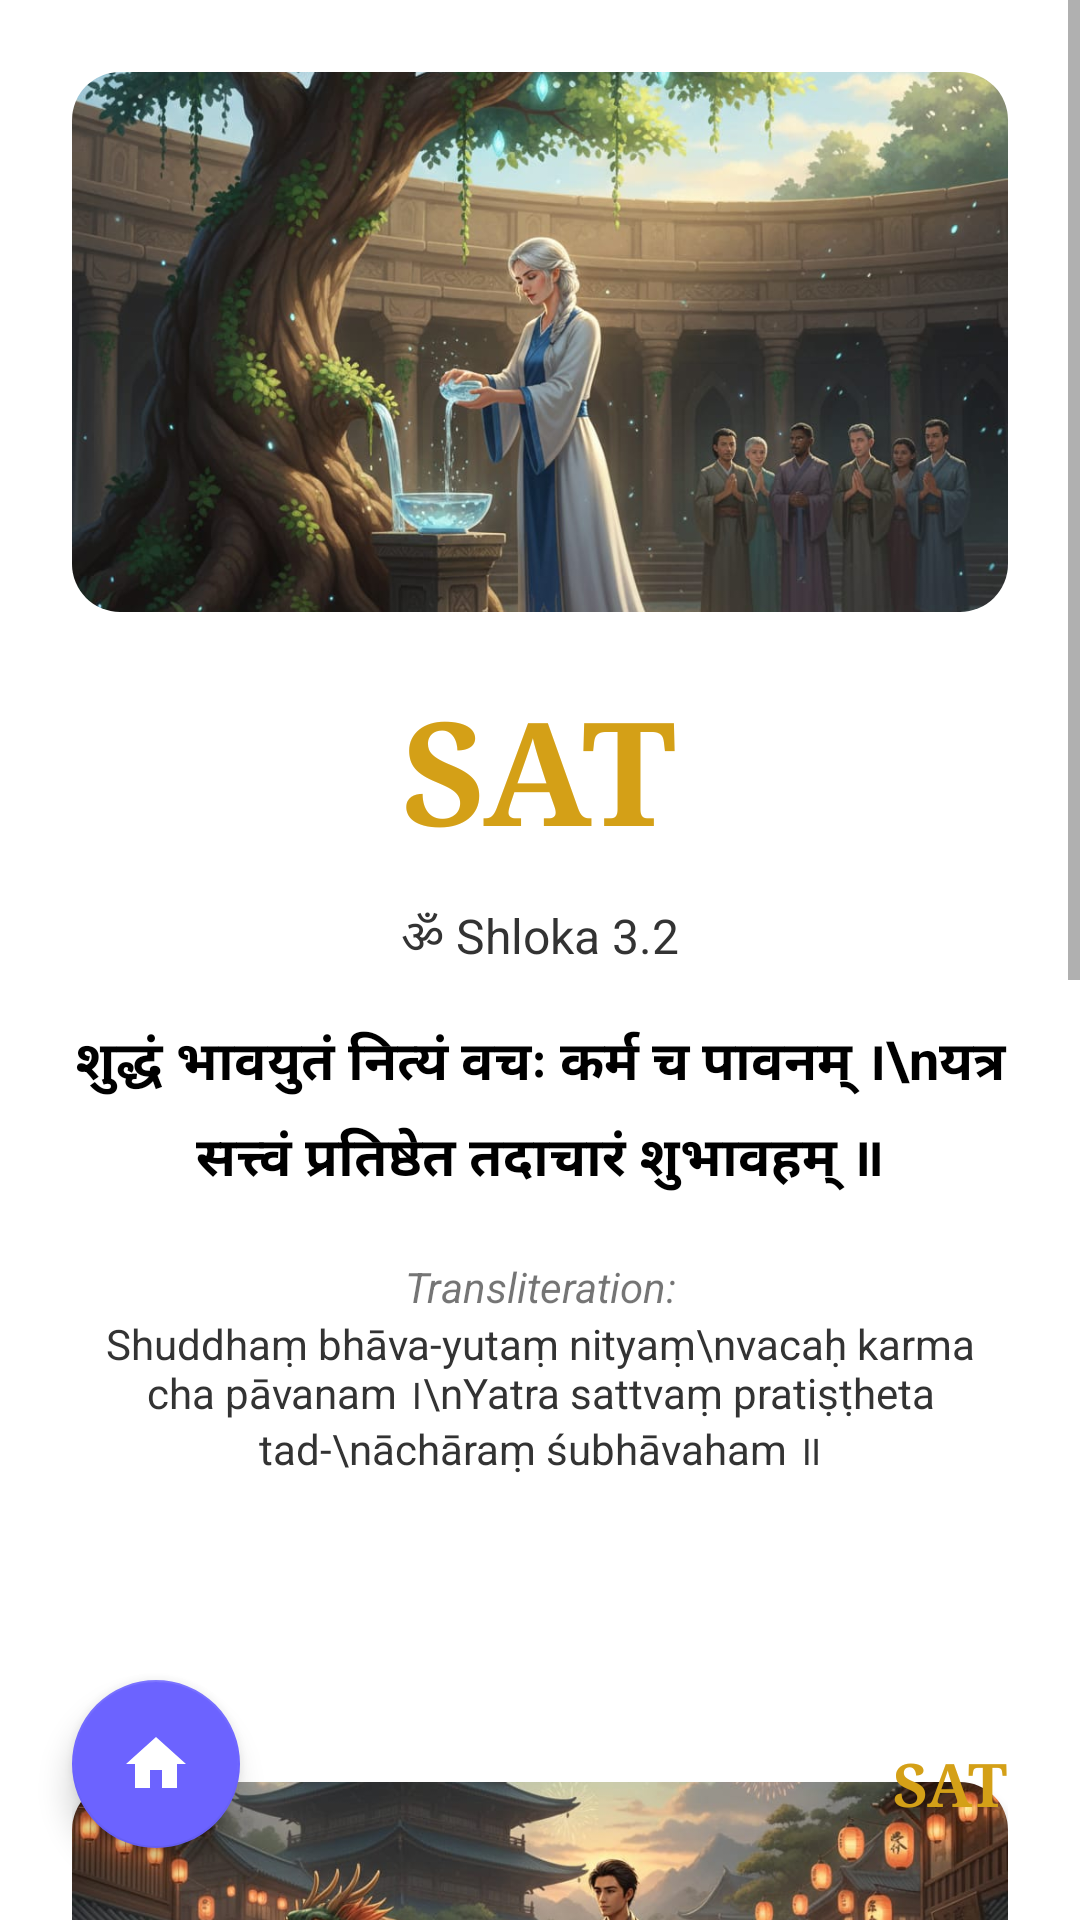

Icon click points for this 1080x1920 phone screenshot, format point (x, y):
home: point (156, 1764)
